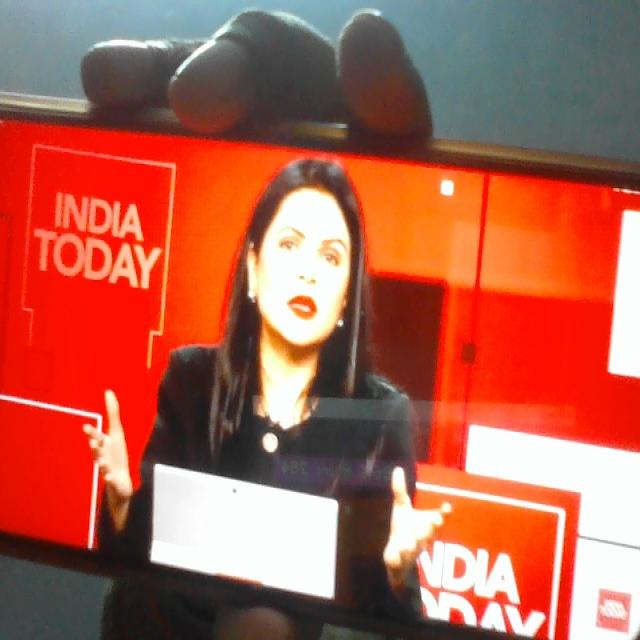fake: (238, 136, 368, 383)
